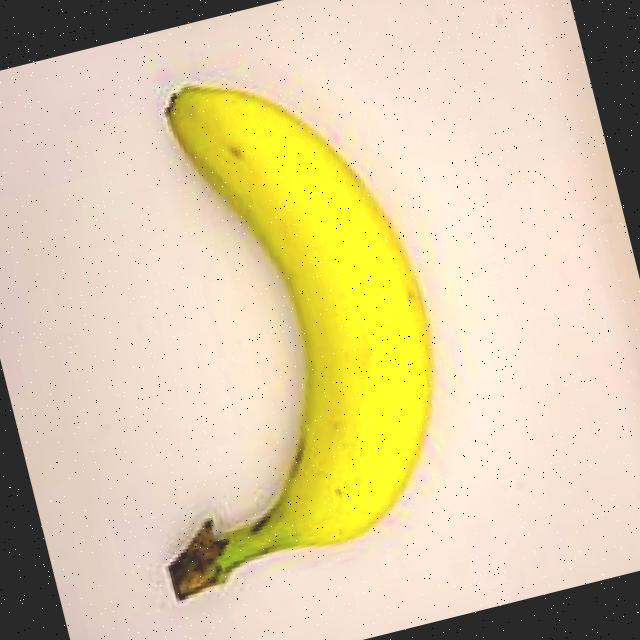Ripe: (10, 26, 533, 630)
